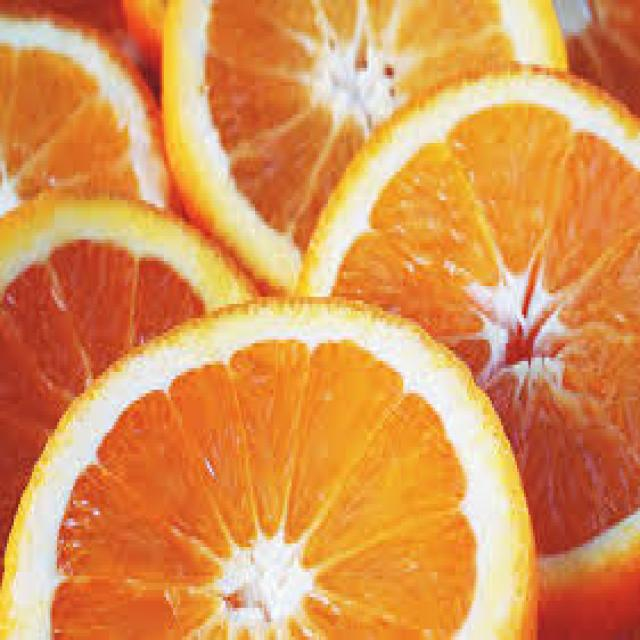orange: (0, 297, 544, 640)
